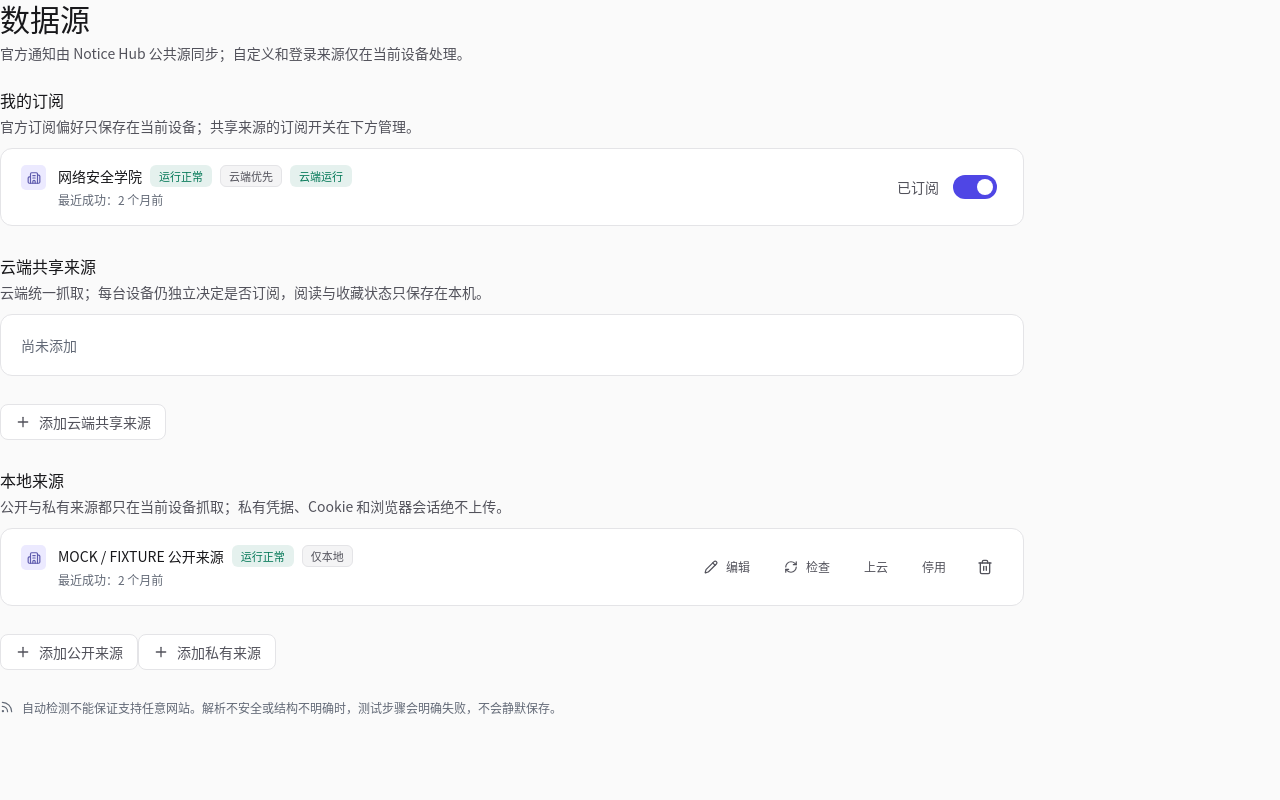
it: SourcesPage › clears a wrong admin key and reports the cloud error
Expected: the heading "MOCK / FIXTURE 公开来源" is shown, x1=58 y1=546 x2=224 y2=566
Click the button "上云".
click(876, 567)  # box x1=851 y1=549 x2=901 y2=585
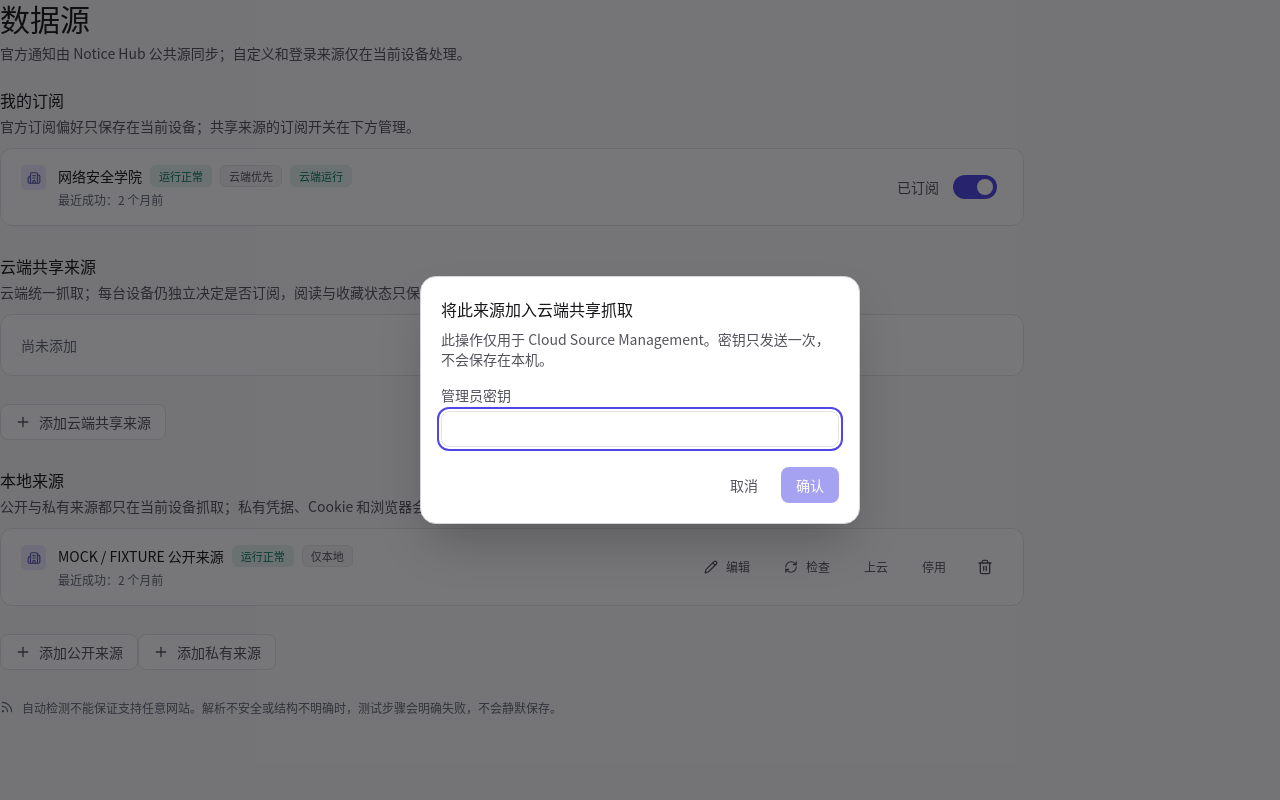
Type "wrong-key" into the password field labelled "管理员密钥".
click(640, 429); type("wrong-key")  # box x1=441 y1=411 x2=839 y2=447
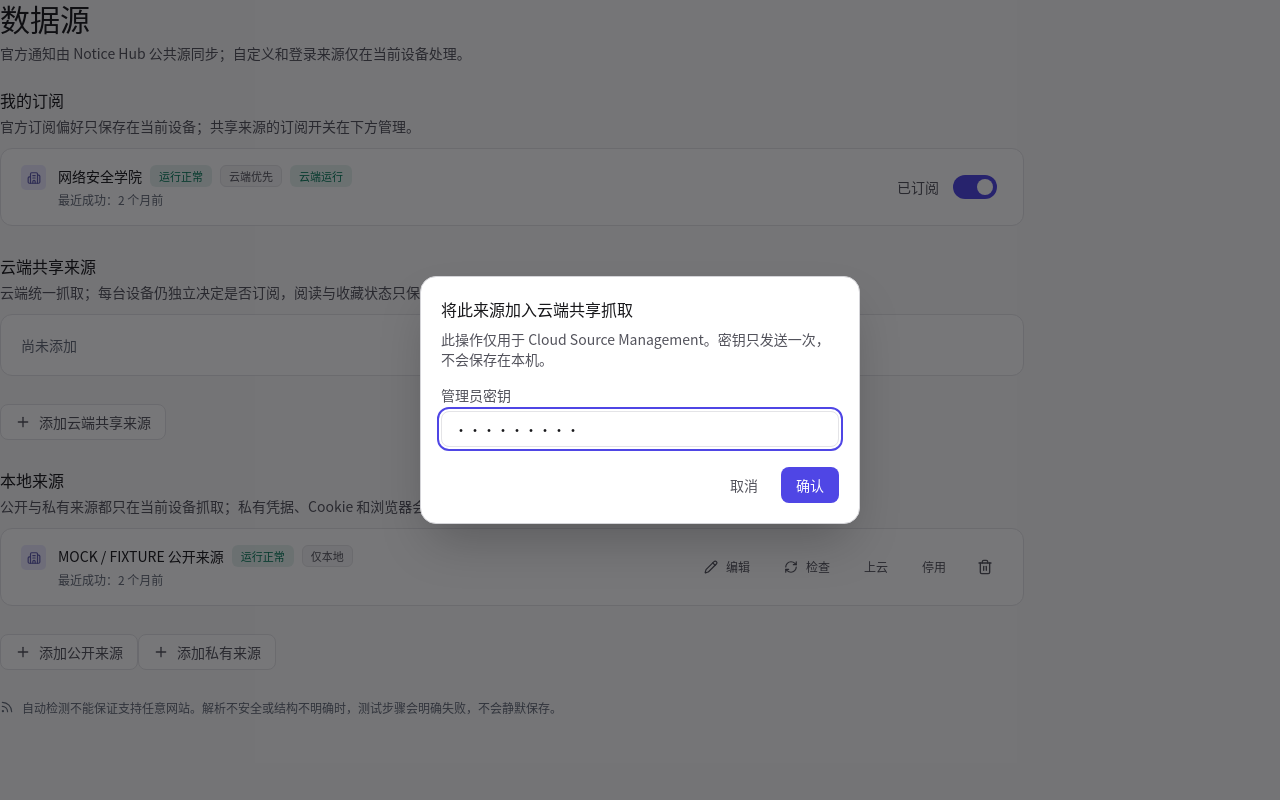
Click the button "确认".
click(810, 485)  # box x1=781 y1=467 x2=839 y2=503
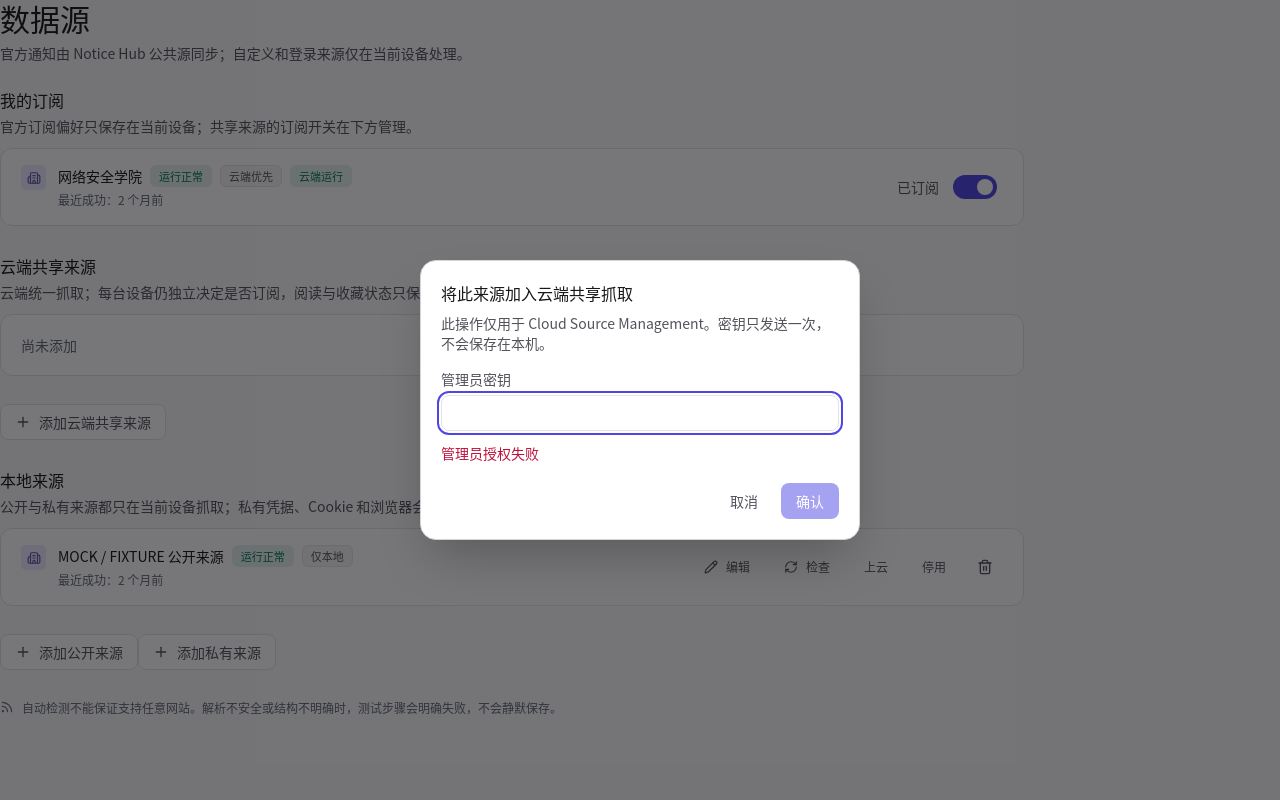
Expected: the message reads "管理员授权失败", x1=441 y1=443 x2=539 y2=463
Expected: the password field labelled "管理员密钥" is empty, x1=441 y1=395 x2=839 y2=431
